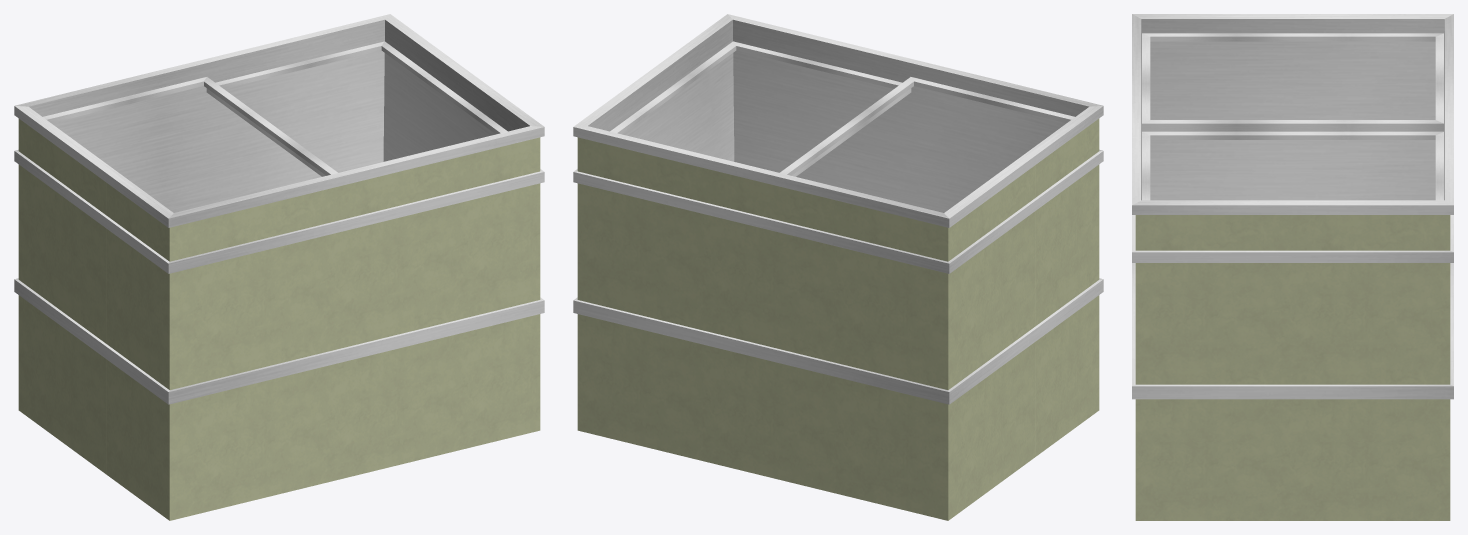
Rendered from LGSeochoB1ConvenienceStoreRef.fbx.
3 views of the same model, side by side, from view 1: azimuth 30°, elevation 25°; view 2: azimuth 150°, elevation 25°; view 3: azimuth 270°, elevation 25° (orthographic). The views are drawn at different scales.
Parts seen in each view (by area): view 1: LGSeochoB1ConvenienceStoreWall, LGSeochoB1Metal (×3); view 2: LGSeochoB1ConvenienceStoreWall, LGSeochoB1Metal (×3); view 3: LGSeochoB1ConvenienceStoreWall, LGSeochoB1Metal (×3).
Part boxes in pixels (x1,y1,x2,y2): LGSeochoB1ConvenienceStoreWall: (18, 118, 540, 520); LGSeochoB1Metal (×3): (14, 14, 544, 404); LGSeochoB1ConvenienceStoreWall: (577, 118, 1099, 520); LGSeochoB1Metal (×3): (573, 14, 1103, 404); LGSeochoB1ConvenienceStoreWall: (1135, 215, 1450, 520); LGSeochoB1Metal (×3): (1132, 14, 1453, 399).
Bounding box in the file's own units: 129 × 100 × 91.96.
3 materials, 2 textured.
